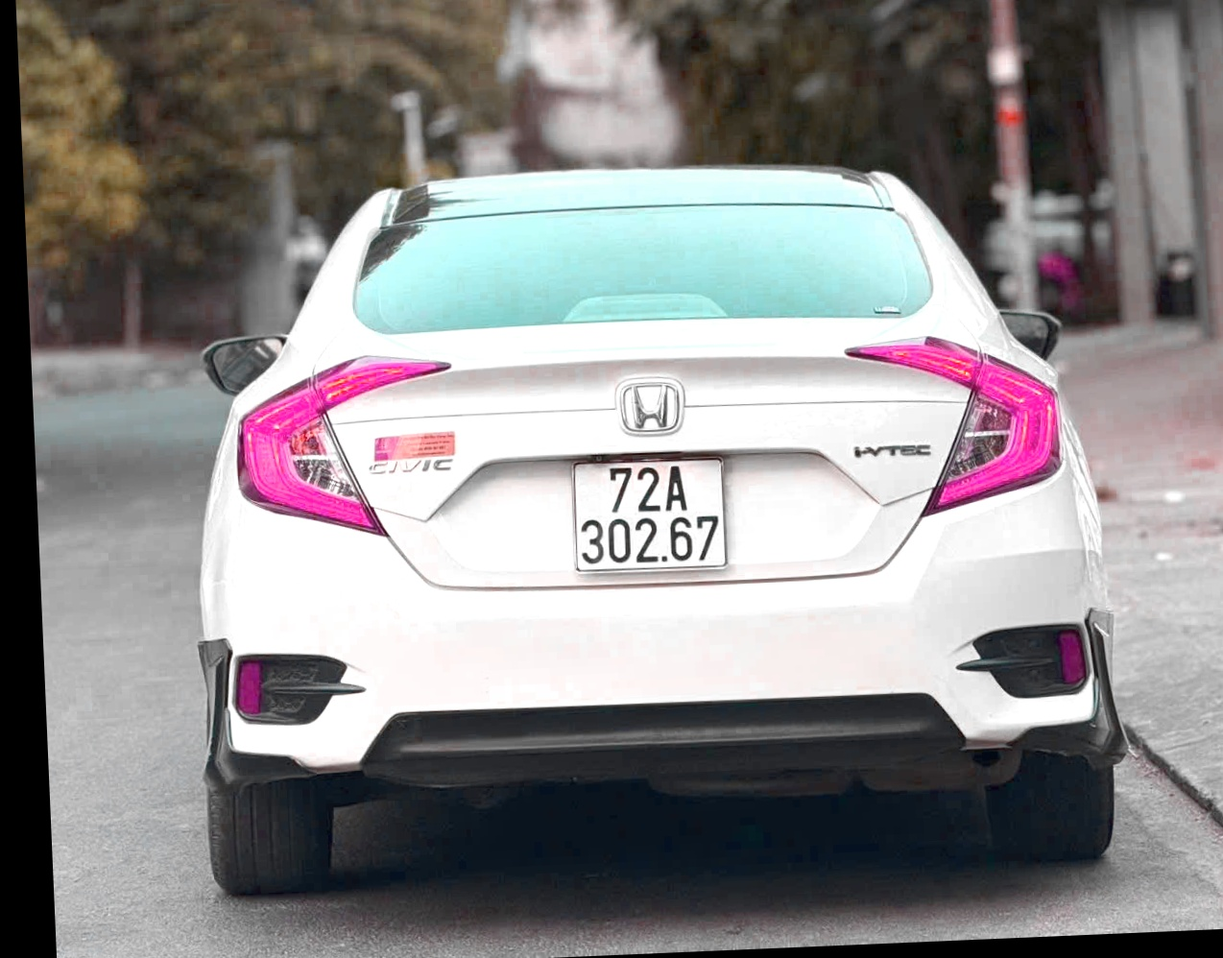Bien-so: (566, 452, 732, 582)
